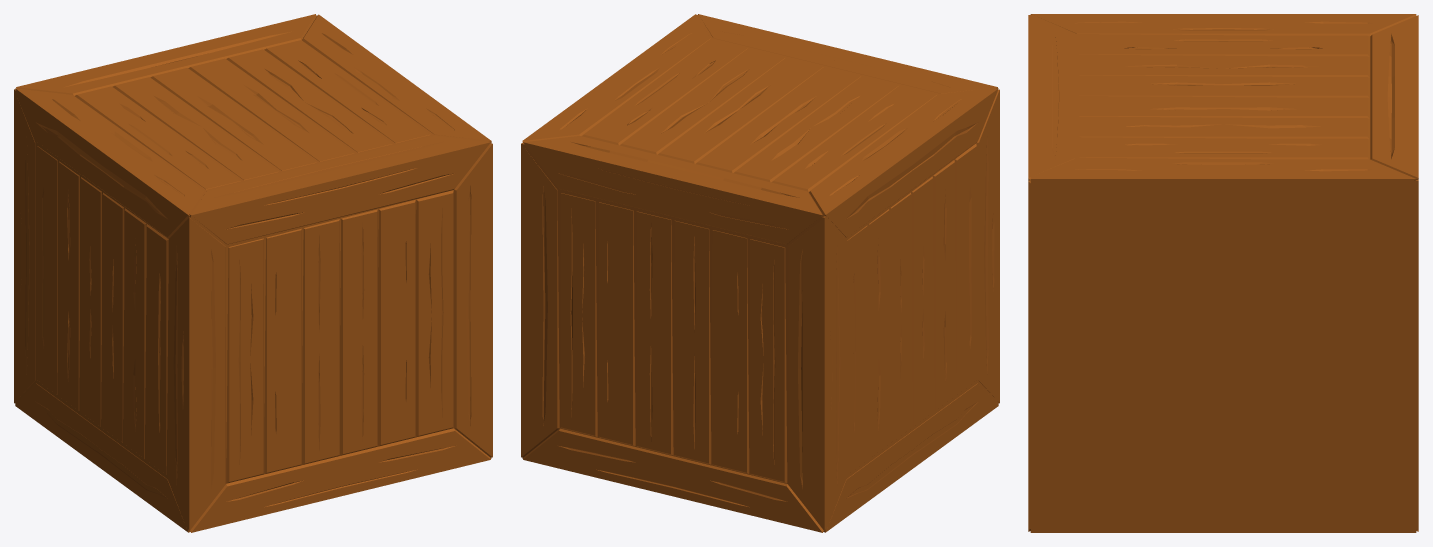
3 views of the same model, side by side, from view 1: azimuth 30°, elevation 25°; view 2: azimuth 150°, elevation 25°; view 3: azimuth 270°, elevation 25° (orthographic). The views are drawn at different scales.
Visible parts, largest first — view 1: HighPoly, Box; view 2: HighPoly, Box; view 3: Box, HighPoly.
Part boxes in pixels (x1,y1,x2,y2): HighPoly: [14, 14, 492, 532]; Box: [14, 15, 491, 532]; HighPoly: [521, 14, 999, 532]; Box: [521, 14, 998, 532]; Box: [1029, 15, 1418, 532]; HighPoly: [1028, 14, 1418, 532].
Bounding box in the file's own units: 2 × 2 × 2.
